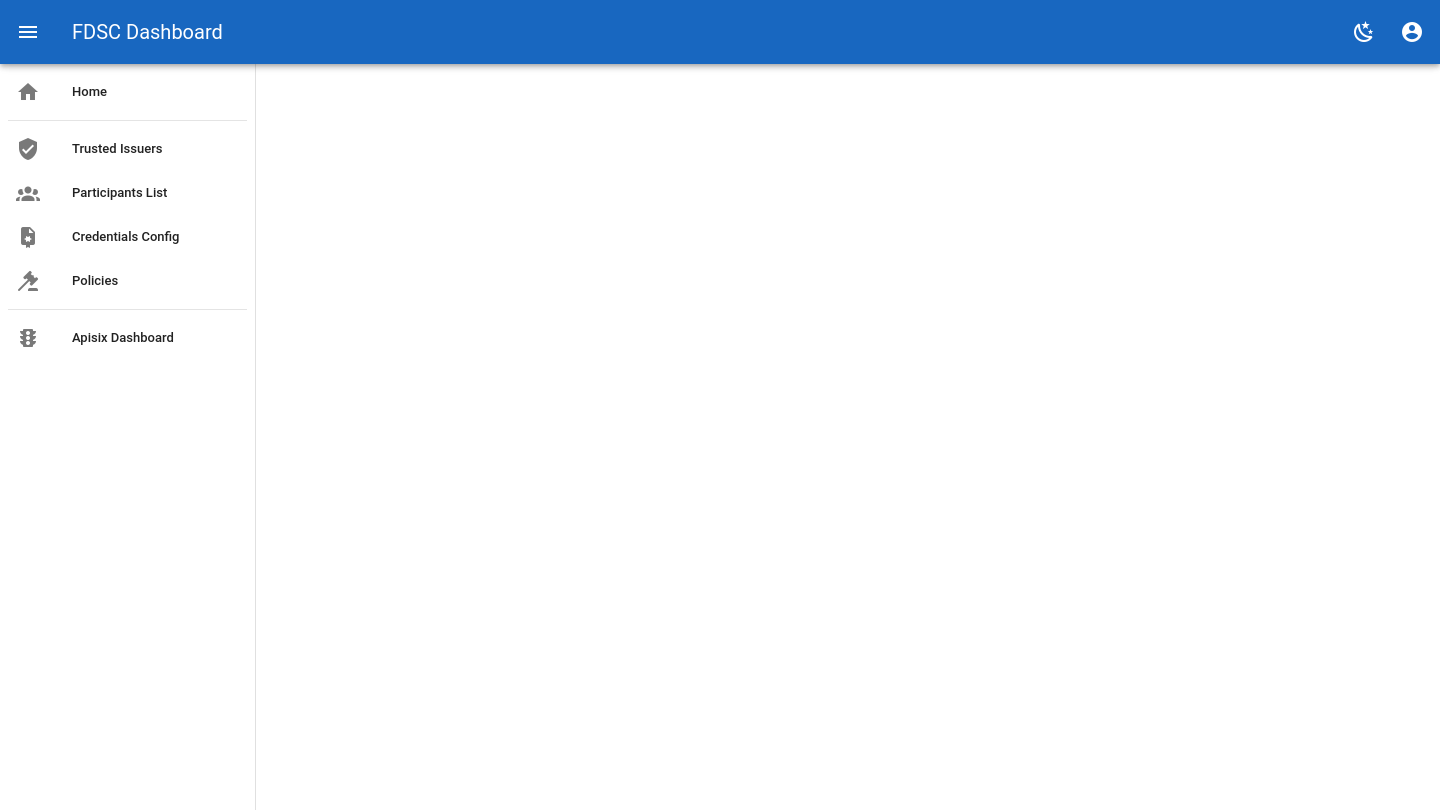
Test case: App.vue user menu › menu content › renders the user name, provider display name, and admin role label
The width and height of the screenshot is (1440, 810).
Click the button with class "user-menu-activator" at (1412, 32), box left=1388, top=8, right=1436, bottom=56
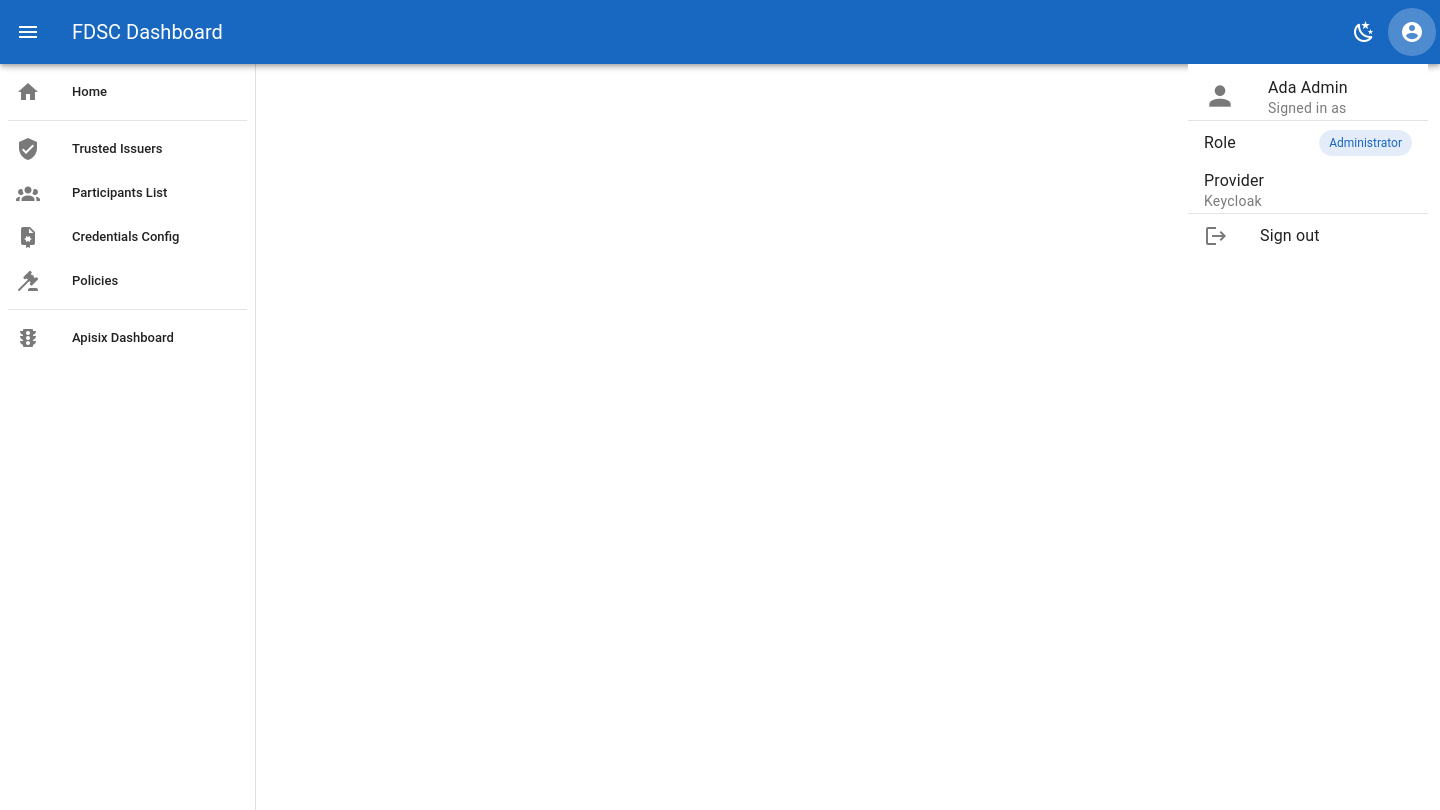
Expected: the text "Ada Admin" is shown, left=1268, top=78, right=1348, bottom=97
Expected: the text "Keycloak" is shown, left=1204, top=193, right=1262, bottom=209
Expected: the text "Administrator" is shown, left=1329, top=134, right=1402, bottom=152
